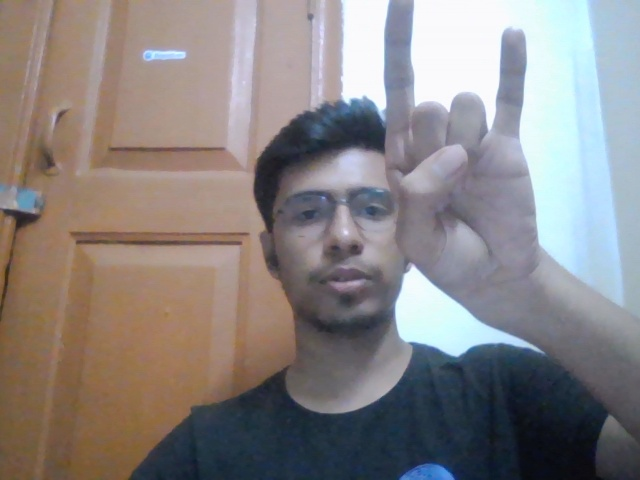ILoveYou: (383, 4, 578, 279)
